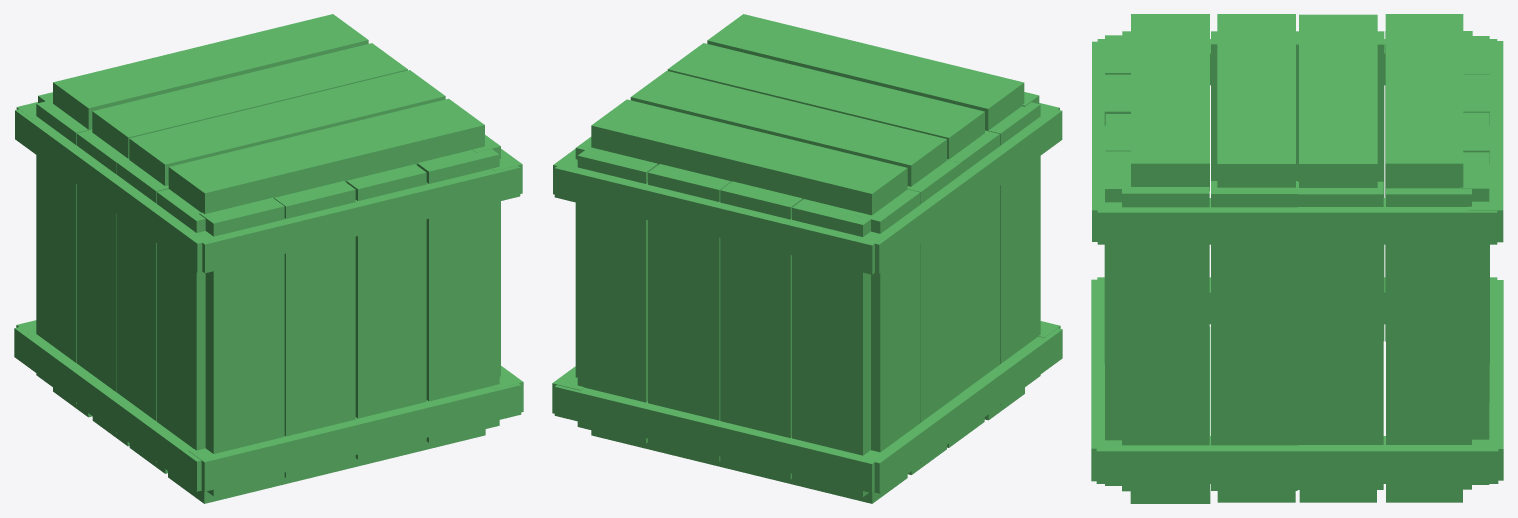
The model's file is crate_destructible_piece_collisions.glb.
3 views of the same model, side by side, from view 1: azimuth 30°, elevation 25°; view 2: azimuth 150°, elevation 25°; view 3: azimuth 270°, elevation 25° (orthographic). The views are drawn at different scales.
Visible parts, largest first — view 1: crate_destructible-piece-00-convcol, crate_destructible-piece-16-convcol, crate_destructible-piece-03-convcol, crate_destructible-piece-01-convcol, crate_destructible-piece-02-convcol, crate_destructible-piece-22-convcol, crate_destructible-piece-18-convcol, crate_destructible-piece-24-convcol, crate_destructible-piece-20-convcol, crate_destructible-piece-25-convcol, crate_destructible-piece-08-convcol, crate_destructible-piece-11-convcol (+6 smaller); view 2: crate_destructible-piece-22-convcol, crate_destructible-piece-04-convcol, crate_destructible-piece-06-convcol, crate_destructible-piece-05-convcol, crate_destructible-piece-07-convcol, crate_destructible-piece-16-convcol, crate_destructible-piece-20-convcol, crate_destructible-piece-27-convcol, crate_destructible-piece-26-convcol, crate_destructible-piece-18-convcol, crate_destructible-piece-11-convcol, crate_destructible-piece-10-convcol (+6 smaller); view 3: crate_destructible-piece-12-convcol, crate_destructible-piece-13-convcol, crate_destructible-piece-14-convcol, crate_destructible-piece-15-convcol, crate_destructible-piece-30-convcol, crate_destructible-piece-31-convcol, crate_destructible-piece-22-convcol, crate_destructible-piece-18-convcol, crate_destructible-piece-20-convcol, crate_destructible-piece-16-convcol, crate_destructible-piece-07-convcol, crate_destructible-piece-03-convcol (+16 smaller).
Boxes of the visible parts, x1,y1,x2,y2 form: crate_destructible-piece-00-convcol: (199,197,284,496); crate_destructible-piece-16-convcol: (168,98,484,213); crate_destructible-piece-03-convcol: (417,149,499,442); crate_destructible-piece-01-convcol: (274,181,355,477); crate_destructible-piece-02-convcol: (346,164,426,459); crate_destructible-piece-22-convcol: (53,14,368,129); crate_destructible-piece-18-convcol: (129,70,445,185); crate_destructible-piece-24-convcol: (188,383,521,491); crate_destructible-piece-20-convcol: (92,43,407,158); crate_destructible-piece-25-convcol: (202,165,520,273); crate_destructible-piece-08-convcol: (156,189,205,491); crate_destructible-piece-11-convcol: (36,99,92,404); crate_destructible-piece-22-convcol: (591,99,907,215); crate_destructible-piece-04-convcol: (792,199,870,496); crate_destructible-piece-06-convcol: (648,164,731,461); crate_destructible-piece-05-convcol: (720,181,802,479); crate_destructible-piece-07-convcol: (577,146,657,443); crate_destructible-piece-16-convcol: (707,14,1024,130); crate_destructible-piece-20-convcol: (630,71,946,186); crate_destructible-piece-27-convcol: (554,156,887,274); crate_destructible-piece-26-convcol: (554,385,887,492); crate_destructible-piece-18-convcol: (667,43,984,159); crate_destructible-piece-11-convcol: (855,189,920,493); crate_destructible-piece-10-convcol: (907,160,960,463); crate_destructible-piece-12-convcol: (1122,180,1209,491); crate_destructible-piece-13-convcol: (1211,181,1297,490); crate_destructible-piece-14-convcol: (1297,181,1383,489); crate_destructible-piece-15-convcol: (1386,188,1471,489); crate_destructible-piece-30-convcol: (1096,436,1498,483); crate_destructible-piece-31-convcol: (1097,198,1497,244); crate_destructible-piece-22-convcol: (1385,14,1463,190); crate_destructible-piece-18-convcol: (1217,14,1295,187); crate_destructible-piece-20-convcol: (1299,14,1377,187); crate_destructible-piece-16-convcol: (1131,14,1209,190); crate_destructible-piece-07-convcol: (1459,152,1489,484); crate_destructible-piece-03-convcol: (1105,151,1130,485).
Size of the model in its own units: 0.9092 by 0.8264 by 0.908.
